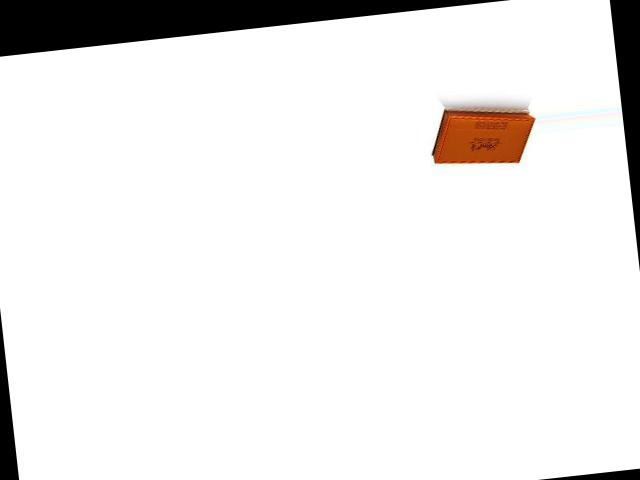chocolate: (424, 91, 538, 175)
